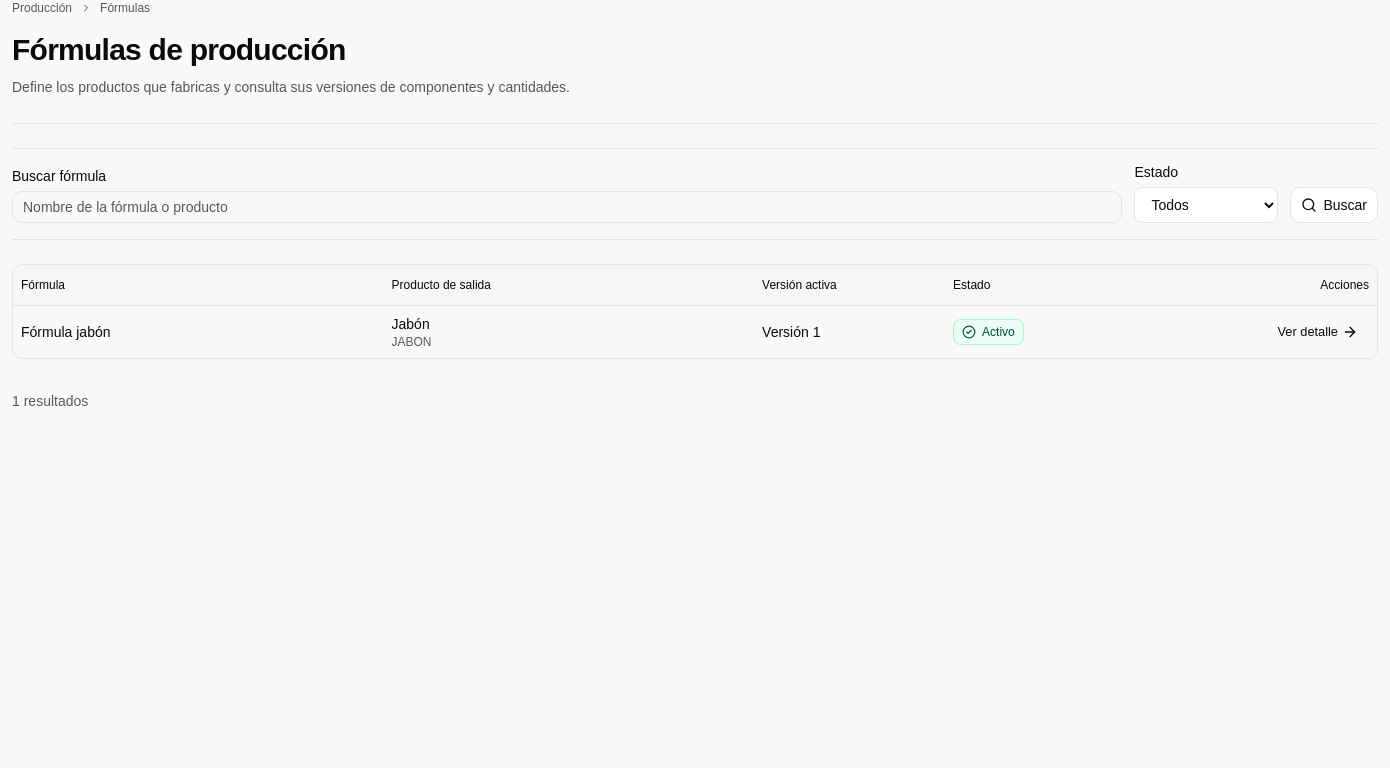
Producción: fórmulas y versiones › permite consulta y cálculo para VENTAS sin mostrar controles de edición
This screenshot has width=1390, height=768.
Click the link "Fórmula jabón": (66, 332) [21,324,110,340]
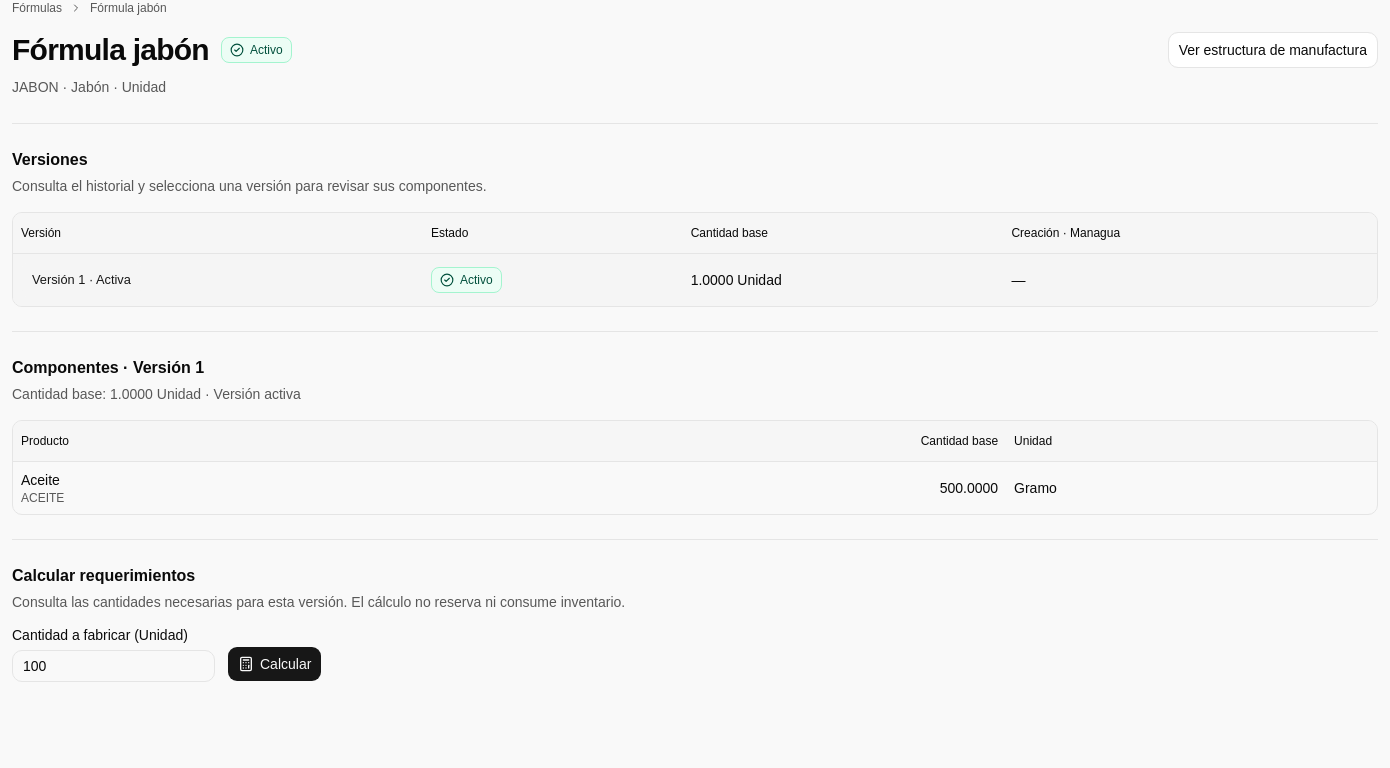
Check: the heading "Fórmula jabón" is shown, box [12,32,209,68]
Click the button "Calcular": (275, 664) [227,646,322,682]
(page scrolled)
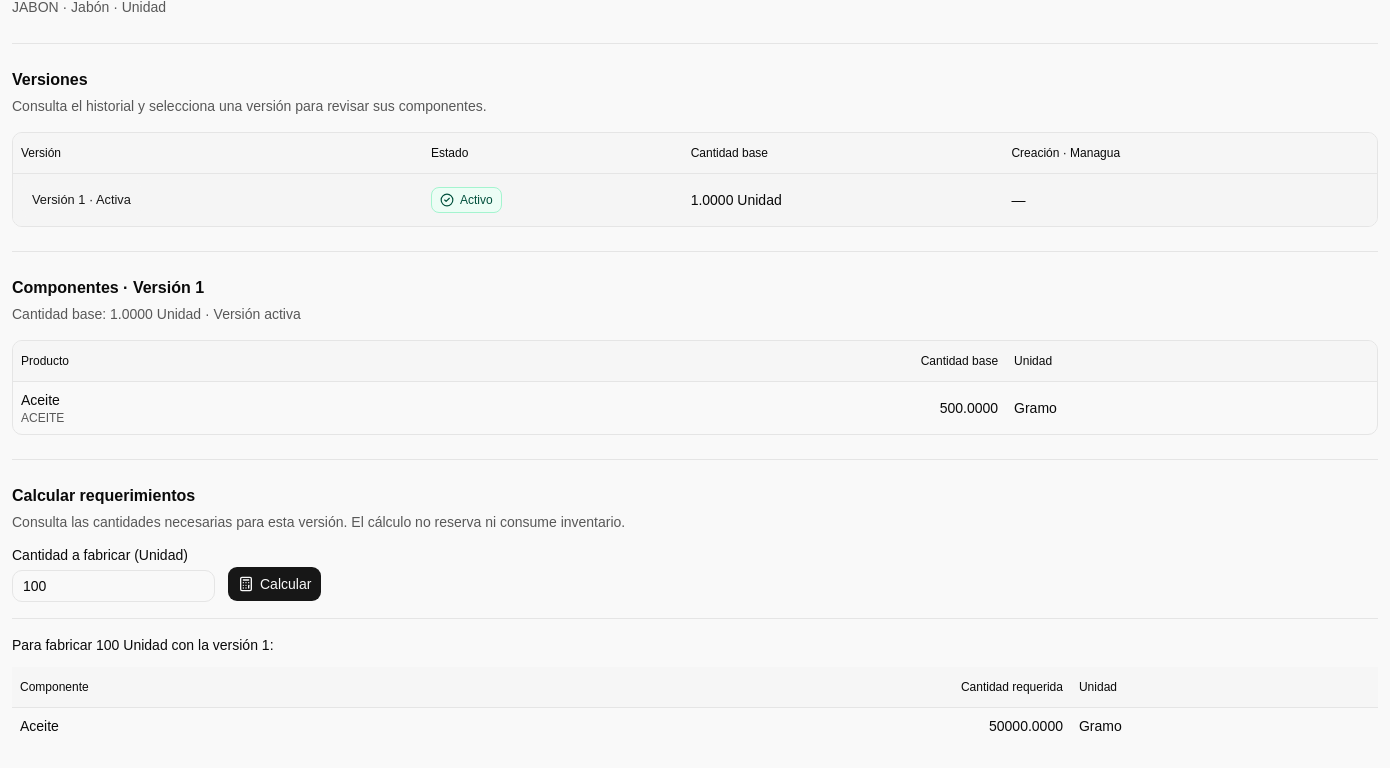
Check: the text "50000.0000" is shown, box [454,707,1071,744]
